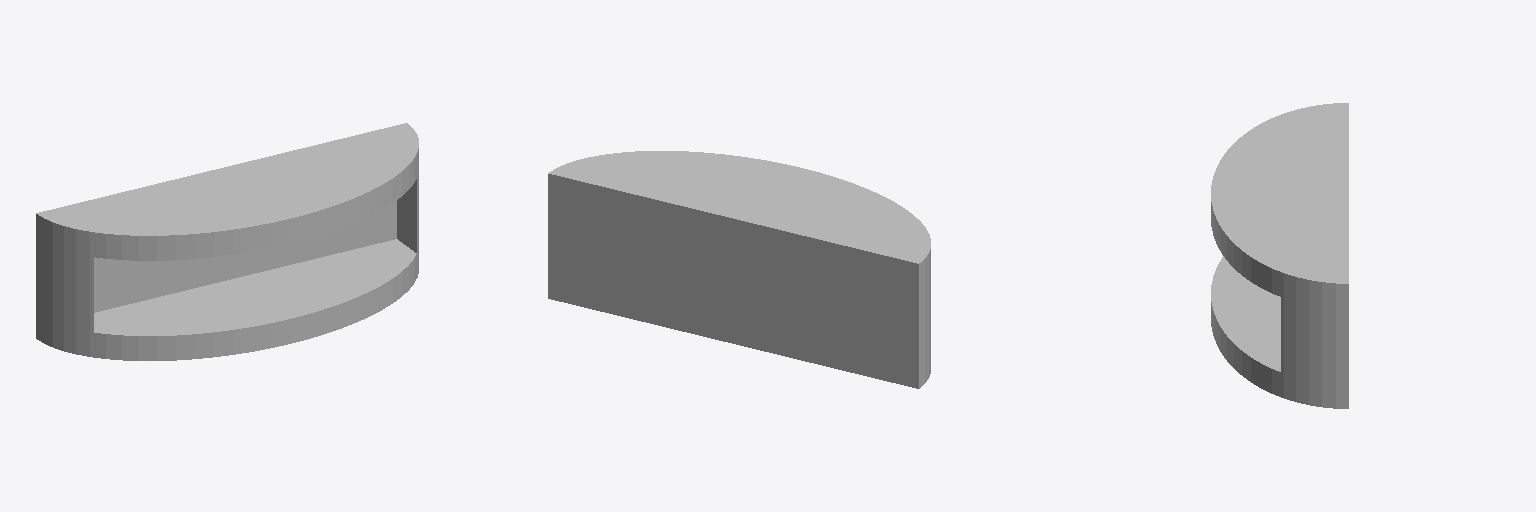
Rendered from lever_base.obj.
3 views of the same model, side by side, from view 1: azimuth 30°, elevation 25°; view 2: azimuth 150°, elevation 25°; view 3: azimuth 270°, elevation 25° (orthographic).
Visible parts, largest first — view 1: obj_0; view 2: obj_0; view 3: obj_0.
Part boxes in pixels (bbox=[...]): obj_0: bbox=[36, 123, 418, 360]; obj_0: bbox=[548, 151, 930, 388]; obj_0: bbox=[1211, 103, 1348, 408].
Bounding box in the file's own units: 31 × 10 × 10.